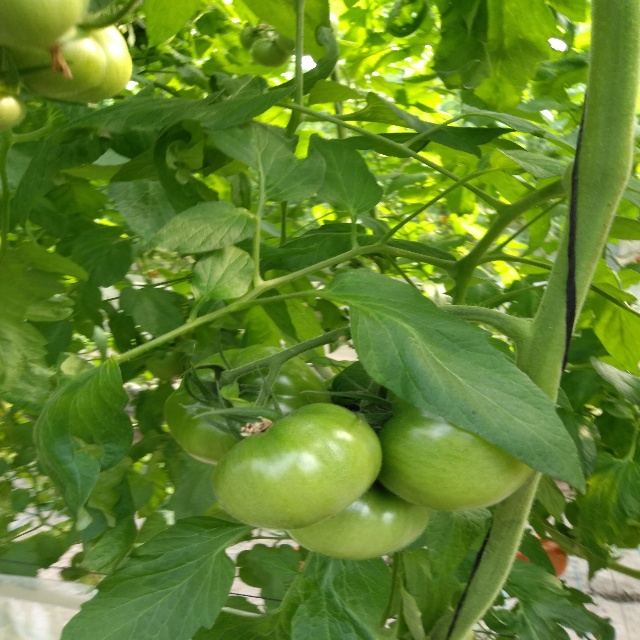b_green: (211, 402, 383, 530), (163, 344, 331, 465), (376, 389, 536, 512), (2, 12, 132, 104), (284, 478, 429, 560), (0, 0, 90, 48), (0, 89, 26, 130)
